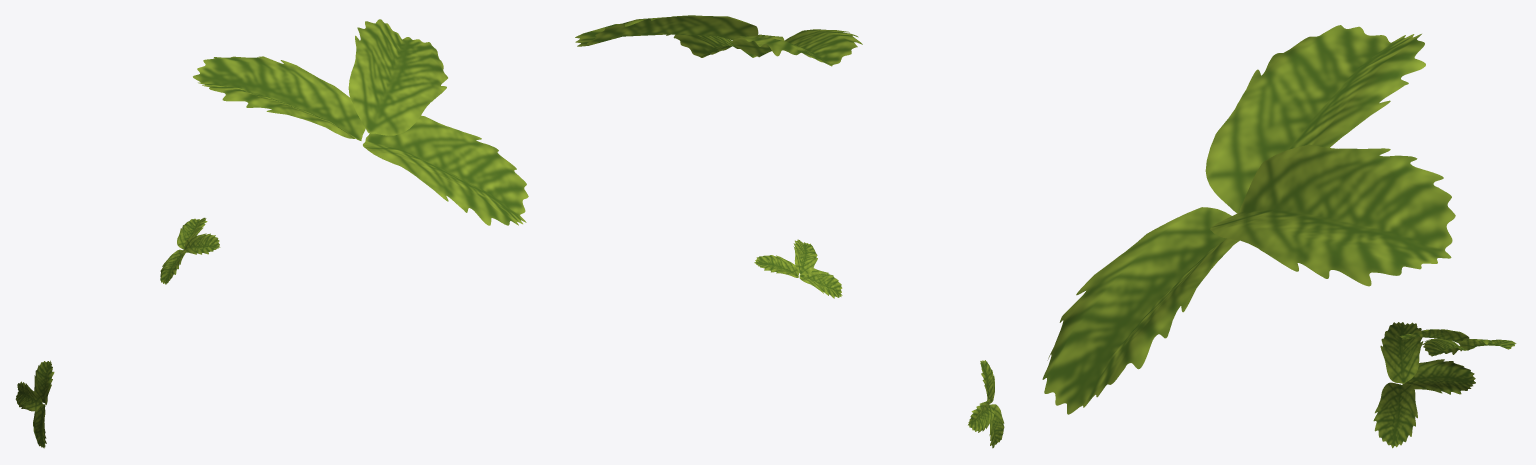
The model's file is Sberry_Leafs.fbx.
3 renders of one model, left to right at view 1: azimuth 30°, elevation 25°; view 2: azimuth 150°, elevation 25°; view 3: azimuth 270°, elevation 25°, orthographic. The views are drawn at different scales.
Parts seen in each view (by area): view 1: Plane.003, Plane.002, Plane.008; view 2: Plane.003, Plane.008, Plane.002; view 3: Plane.003, Plane.002, Plane.008.
Boxes of the visible parts, bbox=[...] form: Plane.003: bbox=[193, 19, 528, 225]; Plane.002: bbox=[15, 360, 54, 448]; Plane.008: bbox=[160, 217, 220, 284]; Plane.003: bbox=[575, 15, 862, 66]; Plane.008: bbox=[754, 239, 842, 298]; Plane.002: bbox=[968, 360, 1004, 448]; Plane.003: bbox=[1042, 25, 1455, 414]; Plane.002: bbox=[1373, 322, 1475, 448]; Plane.008: bbox=[1400, 329, 1516, 356].
Size of the model in its own units: 52.05 by 41.43 by 33.22.
